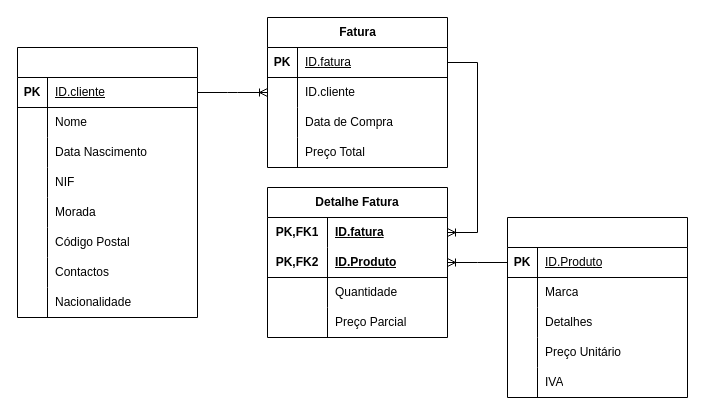
The diagram is 705 pixels wide and 415 high, and some of its shapes have lost their labels. Here are the shapes that lost their labels. From the top down, the box of each, then its label:
(16, 46, 198, 318): Clientes
(506, 216, 688, 398): Produtos
